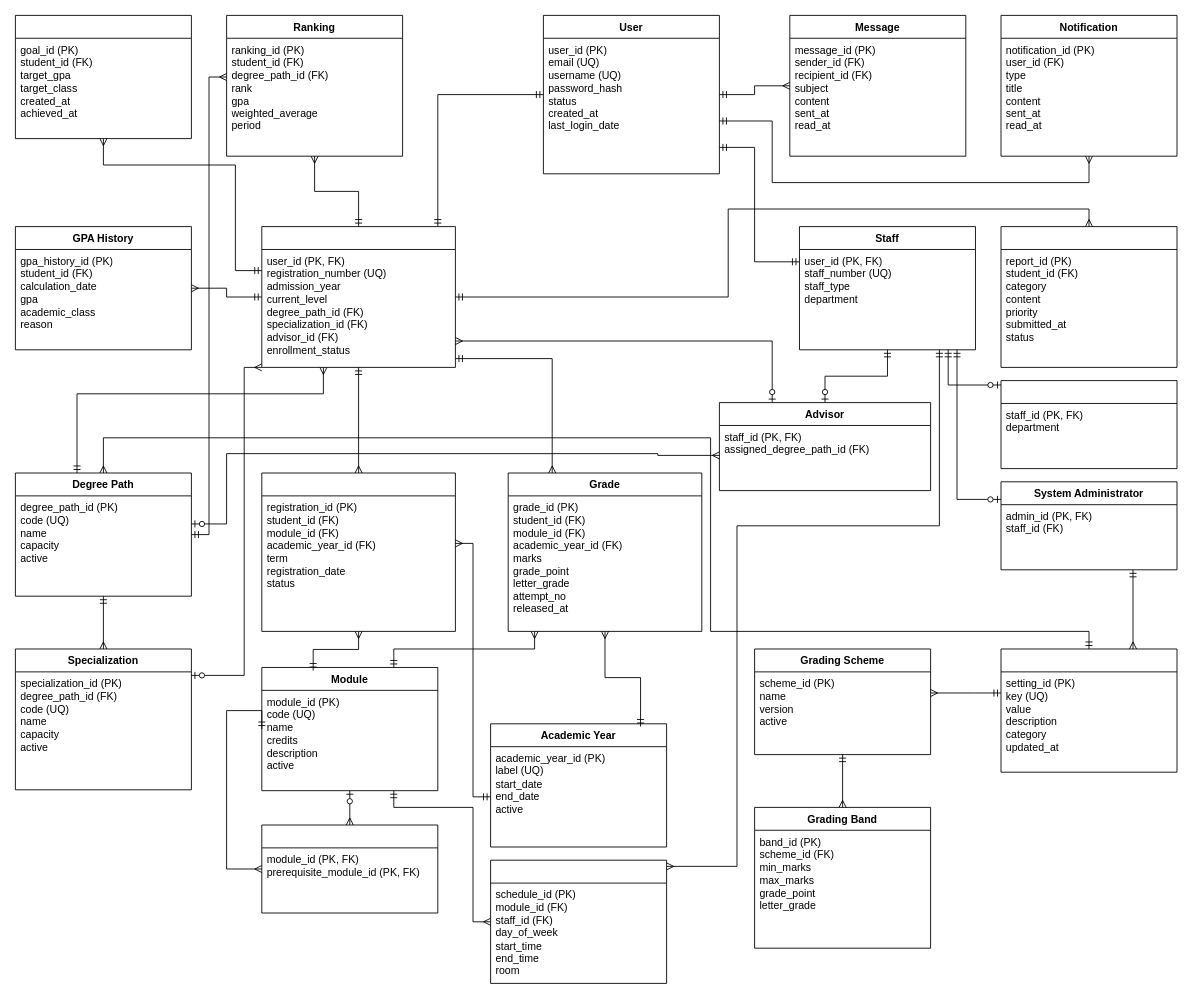
The diagram is 1192 pixels wide and 1001 high, and some of its shapes have lost their labels. Each missing label, with the box of its shape:
Academic Goal: (15, 15, 191, 139)
Anonymous Report: (1000, 226, 1177, 367)
HOD: (1000, 380, 1177, 469)
Lecture Schedule: (490, 859, 667, 983)
Module Prerequisite: (261, 824, 438, 913)
Module Registration: (261, 472, 455, 631)
Student: (261, 226, 455, 367)
System Setting: (1000, 648, 1177, 772)
